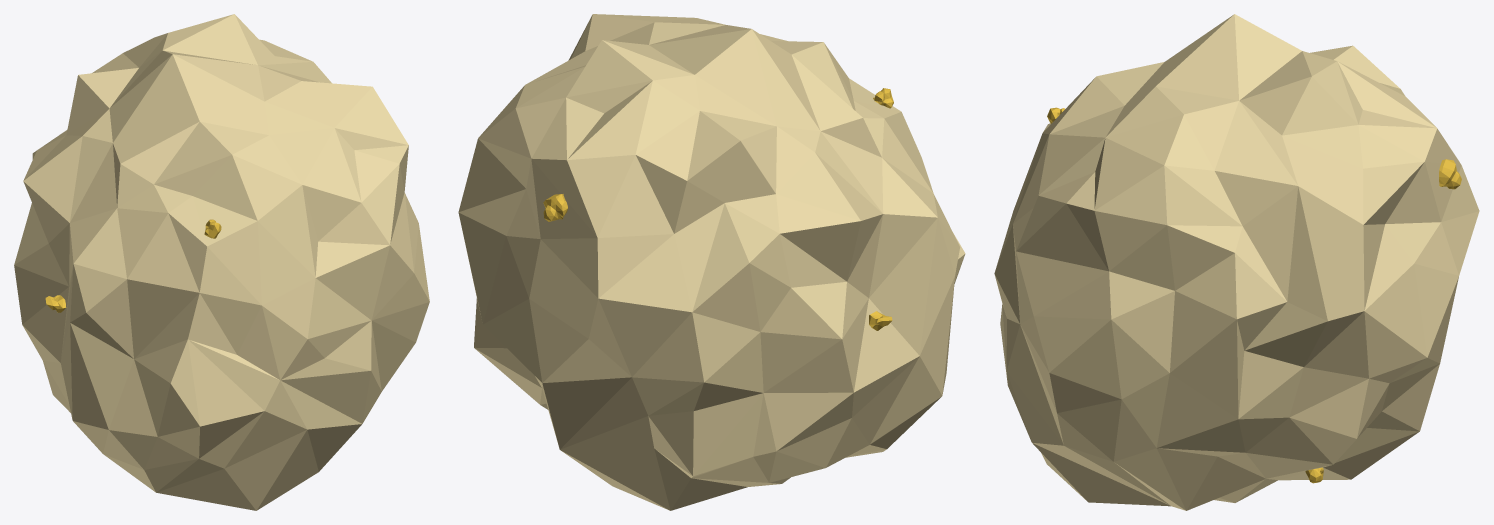
Rendered from MetalOre (49).fbx.
3 renders of one model, left to right at view 1: azimuth 30°, elevation 25°; view 2: azimuth 150°, elevation 25°; view 3: azimuth 270°, elevation 25°, orthographic. The views are drawn at different scales.
Visible parts, largest first — view 1: Asteroid404; view 2: Asteroid404; view 3: Asteroid404.
Part boxes in pixels (box(x1,y1,x2,y2)): Asteroid404: box(14, 14, 429, 510); Asteroid404: box(458, 14, 965, 510); Asteroid404: box(994, 14, 1479, 510).
Size of the model in its own units: 559 by 623 by 592.
